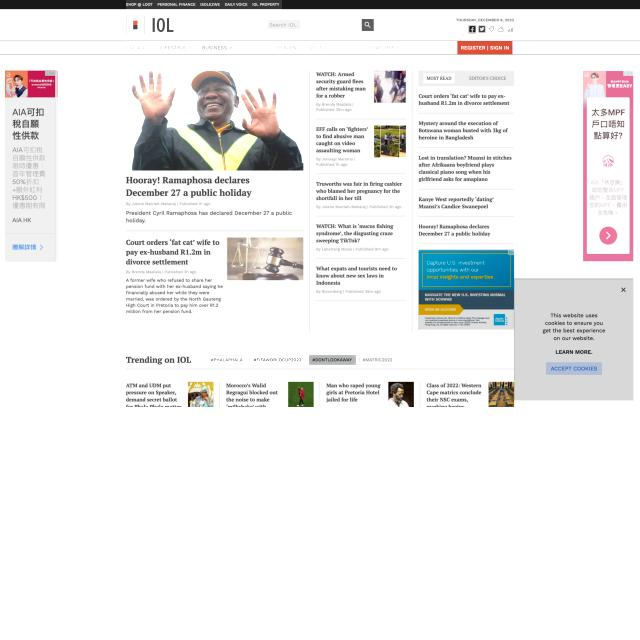CheckBox: (458, 40, 512, 55), (362, 19, 374, 31)
CheckedTextView: (266, 18, 374, 31)
ImageView: (582, 70, 635, 262), (5, 70, 58, 261), (419, 249, 514, 329)
alert: (410, 44, 452, 52), (158, 43, 194, 52), (368, 44, 404, 51), (201, 44, 232, 51), (241, 44, 266, 52), (338, 44, 360, 52), (128, 44, 150, 50)
bag: (0, 0, 640, 56)
carousel: (505, 25, 515, 33), (468, 25, 476, 34), (478, 25, 486, 33), (488, 24, 495, 33), (496, 26, 505, 33)
copy: (126, 62, 305, 171), (227, 236, 304, 281), (373, 125, 407, 158), (374, 70, 406, 102)
data feed: (268, 20, 300, 29)
date picker: (124, 14, 181, 37)
decoration: (124, 41, 457, 54), (126, 0, 282, 10)
header: (514, 278, 633, 400)
illustration: (249, 355, 305, 365), (309, 355, 356, 365), (360, 354, 396, 364), (207, 356, 246, 364)
